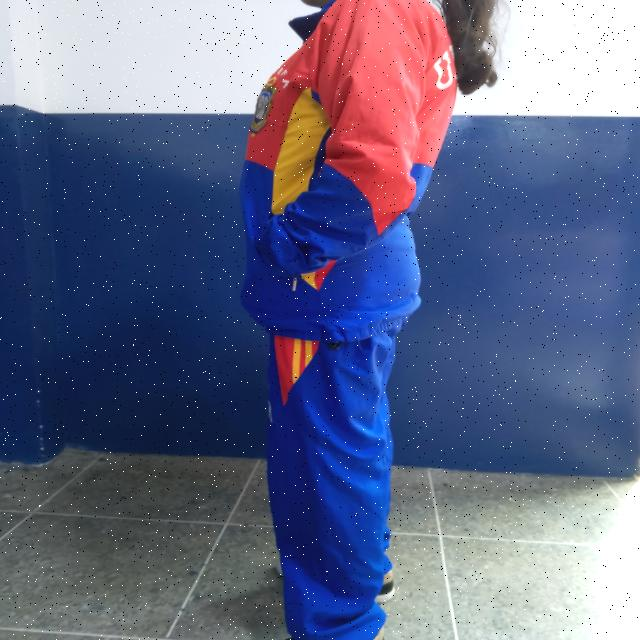chaqueta_unefa: (238, 0, 457, 343)
uniforme_superior: (266, 334, 398, 640)
